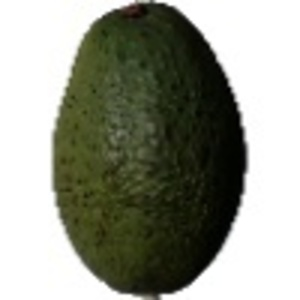abacate: (47, 1, 249, 292)
